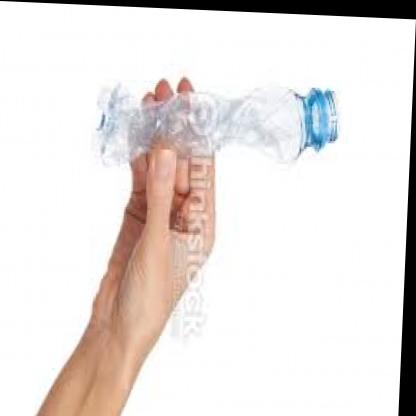Plastic: (97, 53, 355, 190)
